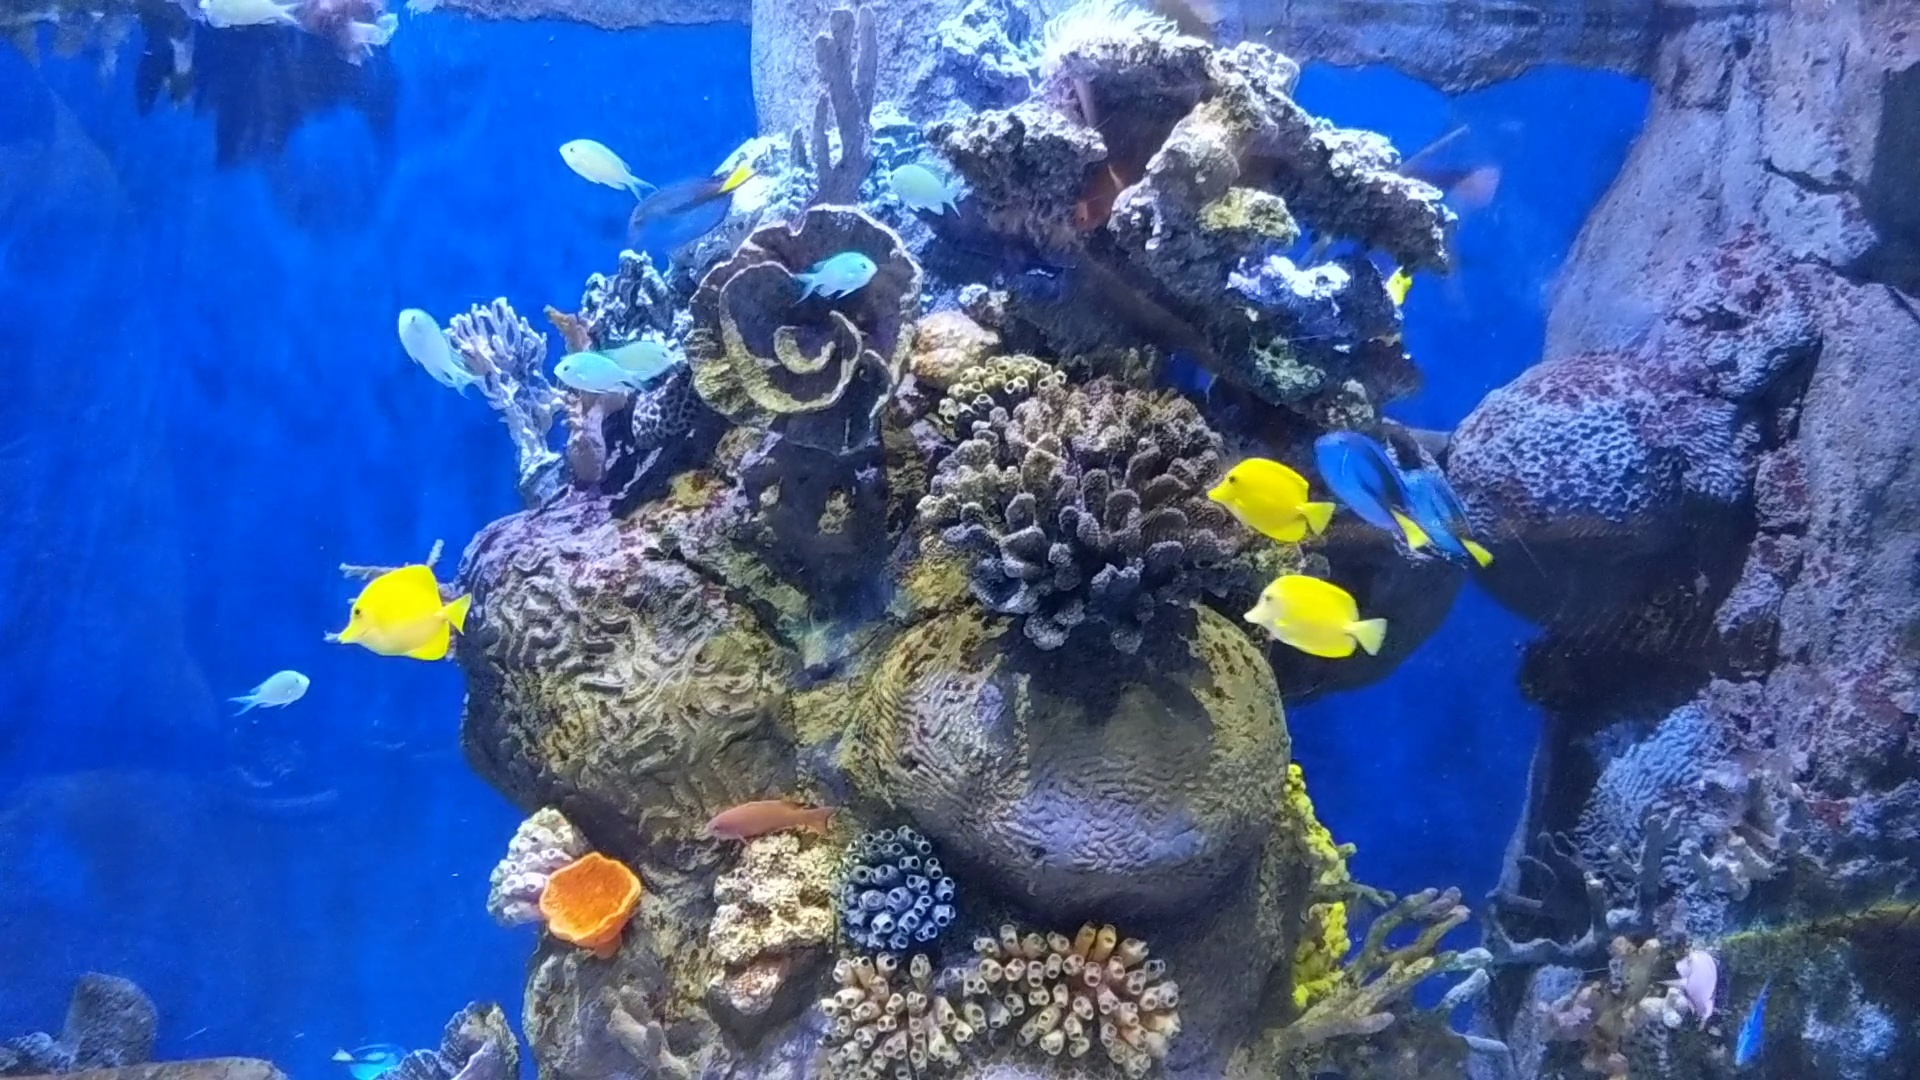blue tang surgeonfish: (1313, 422, 1425, 546), (615, 160, 752, 257), (1396, 460, 1487, 574), (334, 1035, 411, 1079)
damselfish: (390, 298, 487, 398), (553, 129, 658, 211), (542, 342, 638, 406), (785, 247, 881, 310), (880, 157, 959, 225), (224, 662, 314, 716), (608, 338, 676, 371)
pink fish: (694, 786, 839, 855)
saddle butterfly fish: (1236, 564, 1390, 674), (336, 566, 472, 673), (1197, 452, 1338, 542)
